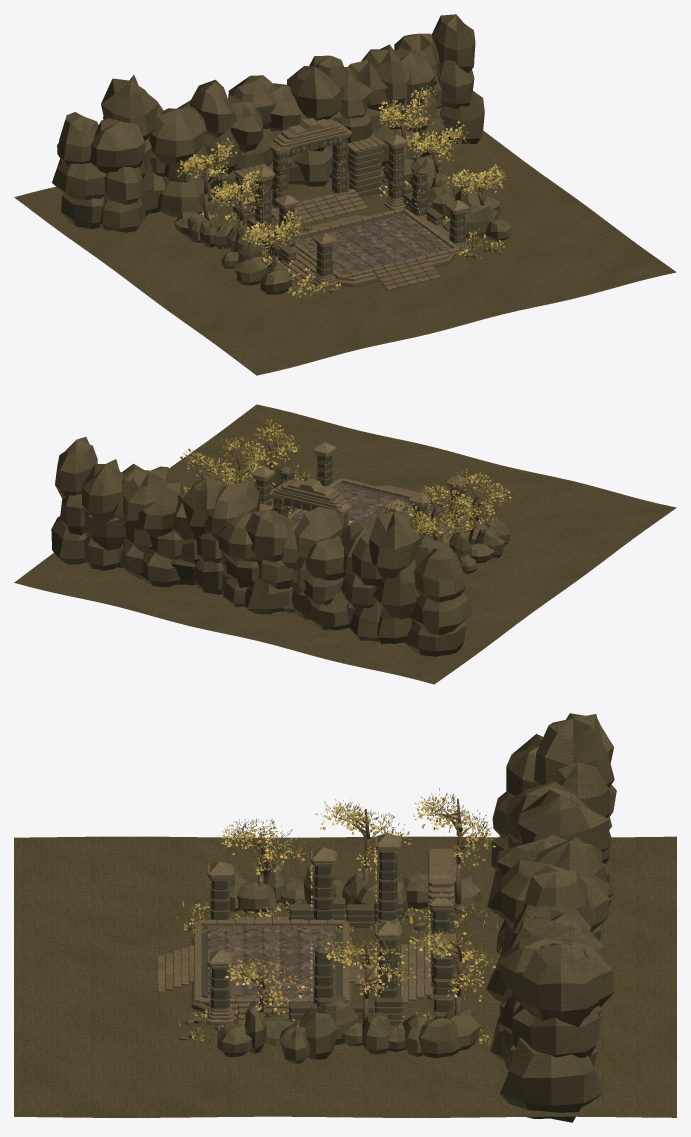
File: temple-arena.glb
3 renders of one model, top to bottom at view 1: azimuth 30°, elevation 25°; view 2: azimuth 150°, elevation 25°; view 3: azimuth 270°, elevation 25°, orthographic. The views are drawn at different scales.
Visible parts, largest first — view 1: Temple_Earth_Stone, Temple_Cliff_Stone, Temple_Golden_Foliage_Leaves, Temple_Central_Floor_Floor, Temple_Carved_Pillars_DarkStone, Temple_Stone_Stairs_Stone, Temple_Carved_Pillars_Stone, Temple_Limestone_Frame_Stone, Temple_Ruined_Gateway_DarkStone, Temple_Ruined_Gateway_Stone, Temple_Branches_Wood, Temple_Ruin_Walls_DarkStone (+2 smaller); view 2: Temple_Cliff_Stone, Temple_Earth_Stone, Temple_Golden_Foliage_Leaves, Temple_Carved_Pillars_Stone, Temple_Ruined_Gateway_Stone, Temple_Central_Floor_Floor, Temple_Carved_Pillars_DarkStone, Temple_Branches_Wood, Temple_Limestone_Frame_Stone, Temple_Stone_Stairs_Stone; view 3: Temple_Earth_Stone, Temple_Cliff_Stone, Temple_Golden_Foliage_Leaves, Temple_Central_Floor_Floor, Temple_Carved_Pillars_DarkStone, Temple_Carved_Pillars_Stone, Temple_Stone_Stairs_Stone, Temple_Branches_Wood, Temple_Ruin_Walls_DarkStone, Temple_Limestone_Frame_Stone, Temple_Ruined_Gateway_Stone, Temple_Limestone_Frame_DarkStone (+2 smaller).
Boxes of the visible parts, left/top/right/bottom form: Temple_Earth_Stone: left=14, top=130, right=676, bottom=375; Temple_Cliff_Stone: left=52, top=14, right=511, bottom=294; Temple_Golden_Foliage_Leaves: left=177, top=86, right=509, bottom=297; Temple_Central_Floor_Floor: left=295, top=214, right=451, bottom=274; Temple_Carved_Pillars_DarkStone: left=255, top=138, right=465, bottom=275; Temple_Stone_Stairs_Stone: left=271, top=189, right=468, bottom=290; Temple_Carved_Pillars_Stone: left=251, top=127, right=469, bottom=288; Temple_Limestone_Frame_Stone: left=295, top=207, right=459, bottom=287; Temple_Ruined_Gateway_DarkStone: left=233, top=137, right=385, bottom=225; Temple_Ruined_Gateway_Stone: left=234, top=118, right=384, bottom=179; Temple_Branches_Wood: left=189, top=97, right=497, bottom=264; Temple_Ruin_Walls_DarkStone: left=247, top=183, right=443, bottom=265; Temple_Cliff_Stone: left=51, top=437, right=510, bottom=656; Temple_Earth_Stone: left=14, top=404, right=676, bottom=684; Temple_Golden_Foliage_Leaves: left=180, top=419, right=511, bottom=540; Temple_Carved_Pillars_Stone: left=251, top=442, right=470, bottom=533; Temple_Ruined_Gateway_Stone: left=259, top=478, right=348, bottom=510; Temple_Central_Floor_Floor: left=293, top=484, right=445, bottom=528; Temple_Carved_Pillars_DarkStone: left=256, top=455, right=465, bottom=536; Temple_Branches_Wood: left=190, top=431, right=495, bottom=540; Temple_Limestone_Frame_Stone: left=288, top=478, right=449, bottom=531; Temple_Stone_Stairs_Stone: left=295, top=485, right=468, bottom=545; Temple_Earth_Stone: left=14, top=836, right=676, bottom=1117; Temple_Cliff_Stone: left=217, top=713, right=616, bottom=1122; Temple_Golden_Foliage_Leaves: left=183, top=788, right=502, bottom=1044; Temple_Central_Floor_Floor: left=207, top=924, right=335, bottom=1002; Temple_Carved_Pillars_DarkStone: left=211, top=852, right=450, bottom=1008; Temple_Carved_Pillars_Stone: left=206, top=833, right=455, bottom=1024; Temple_Stone_Stairs_Stone: left=157, top=917, right=433, bottom=1026; Temple_Branches_Wood: left=232, top=798, right=486, bottom=1045; Temple_Ruin_Walls_DarkStone: left=289, top=898, right=402, bottom=1025; Temple_Limestone_Frame_Stone: left=191, top=920, right=351, bottom=1017; Temple_Ruined_Gateway_Stone: left=428, top=848, right=456, bottom=956; Temple_Limestone_Frame_DarkStone: left=201, top=926, right=342, bottom=1003.
Bounding box in the file's own units: 36.24 × 11.09 × 36.
6 materials, 3 textured.
